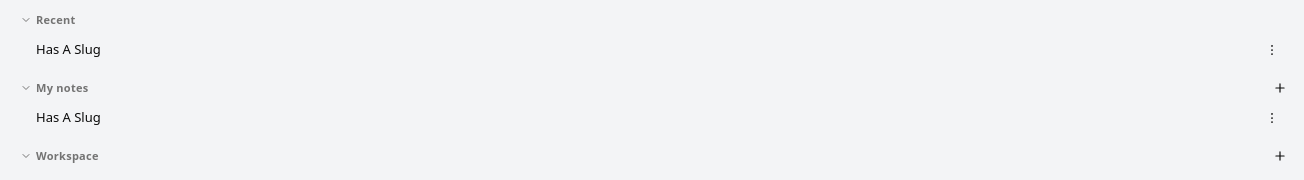
Scenario: NoteList › 側欄分段與折疊（#103） › RF4：localStorage 拋錯（隱私模式）→ 側欄照常、預設展開、本次 session 仍能折疊
This screenshot has width=1304, height=180.
Click the button "My notes".
click(62, 87)  # box [12,76,1266,100]
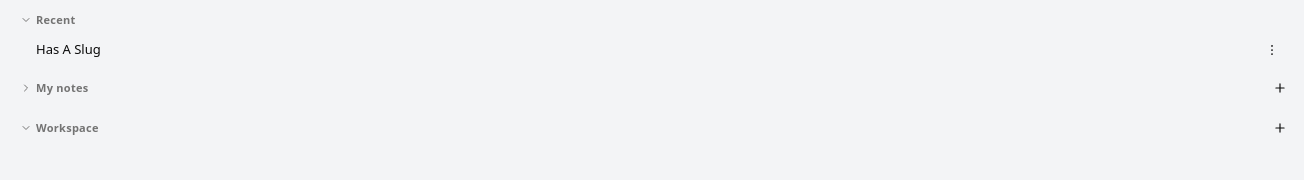
expect the button "My notes" is collapsed: met, box [12,76,1266,100]
